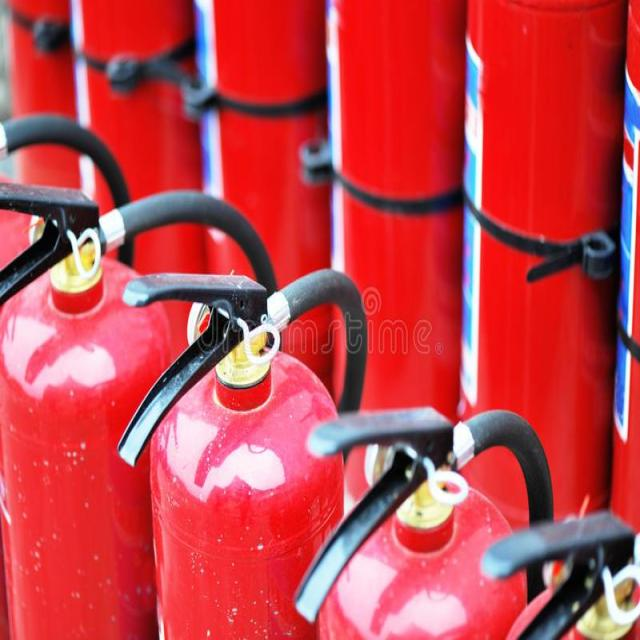fire_extinguisher: (0, 177, 290, 638), (456, 0, 639, 639), (186, 0, 366, 639), (62, 0, 236, 633), (319, 0, 486, 639), (115, 263, 370, 639), (287, 404, 567, 639), (602, 0, 640, 639), (478, 492, 640, 639)
